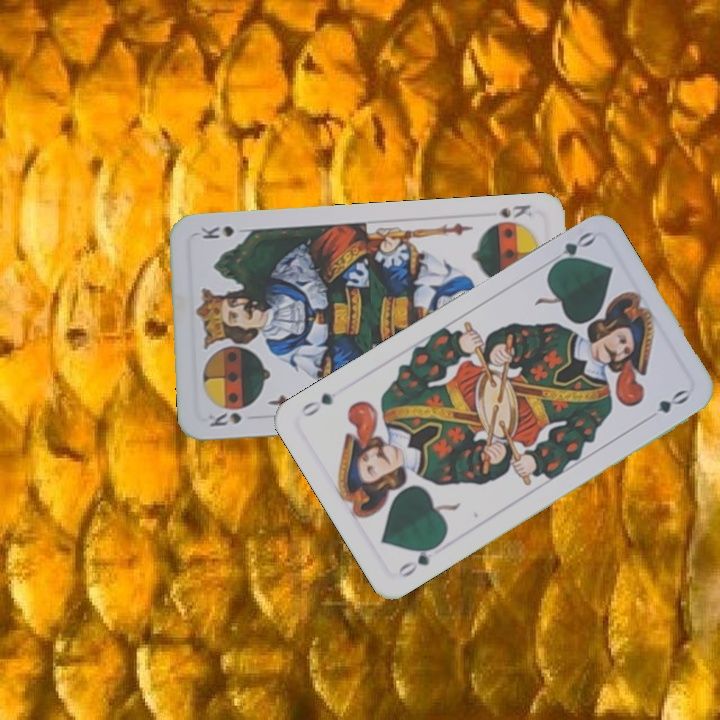GO: (546, 227, 598, 272), (394, 538, 444, 581)
SK: (204, 407, 244, 429), (494, 200, 535, 221)
